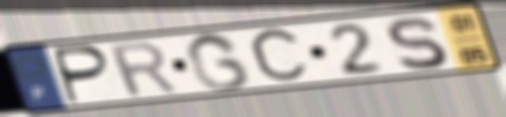2: (327, 21, 388, 78)
C: (246, 24, 313, 88)
G: (183, 31, 254, 93)
P: (53, 43, 115, 107)
R: (105, 39, 183, 100)
S: (382, 15, 451, 73)
